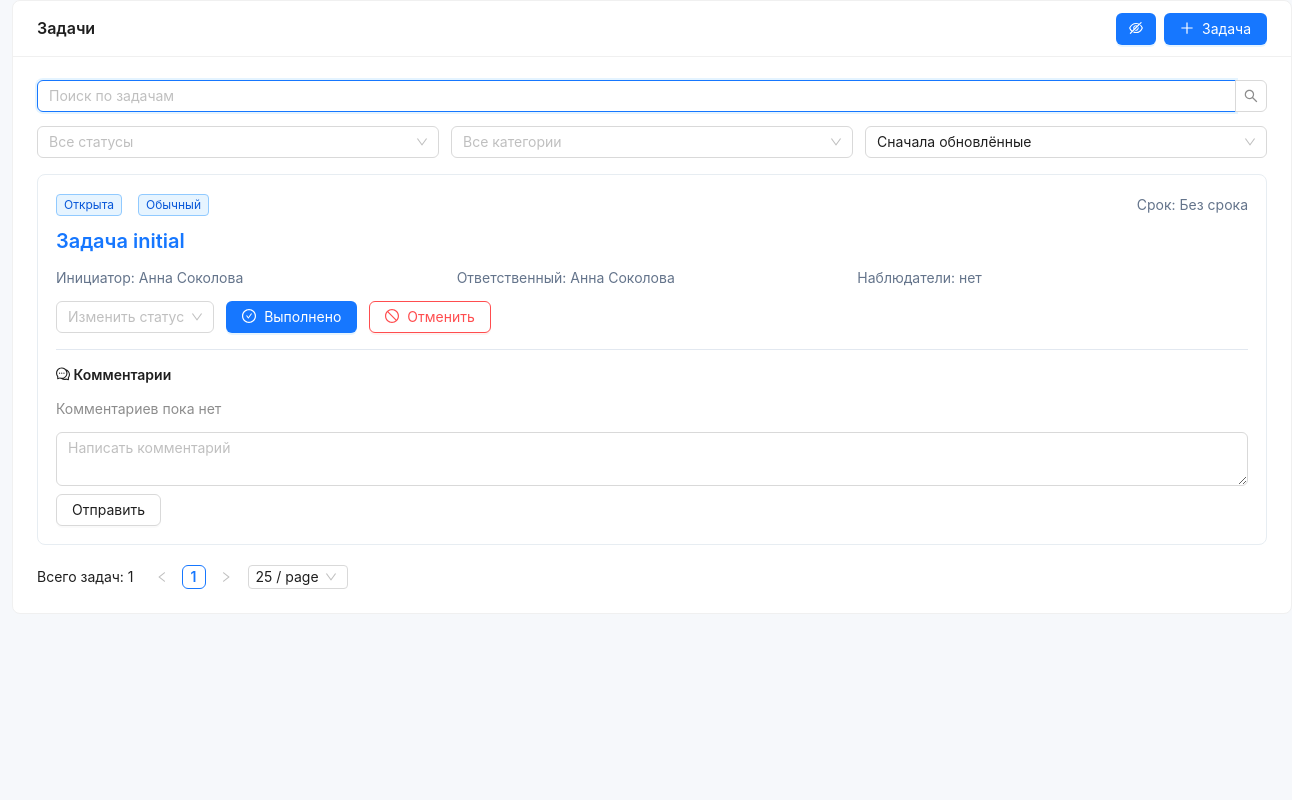
Scenario: project task list requests › keeps search focused during loading and ignores a late response
Check: the link "Задача initial" is shown, box [56,229,185,253]
Type "old" into the search field labelled "Поиск по задачам" at (628, 96), box [49,85,1208,107]
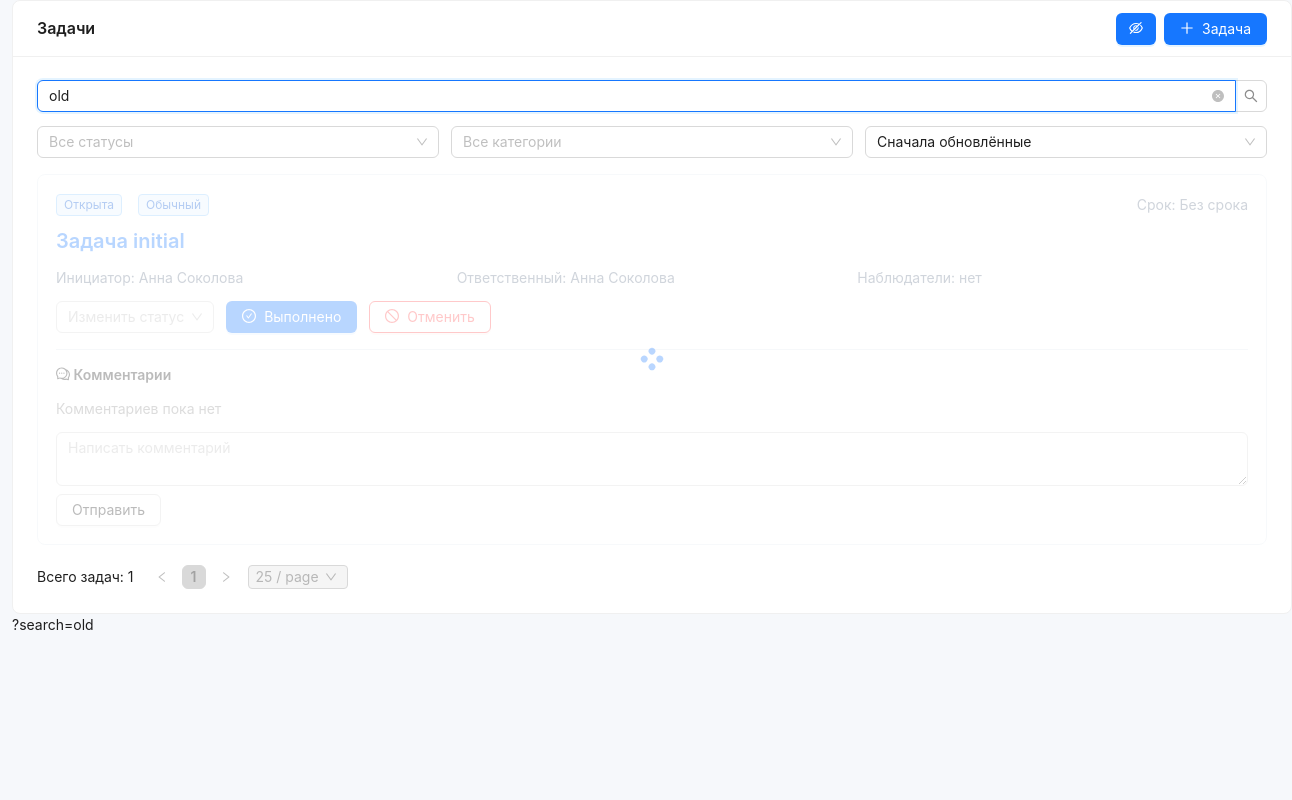
Replace the text in the search field named "Поиск по задачам" with "new" at (628, 96), box [49,85,1208,107]
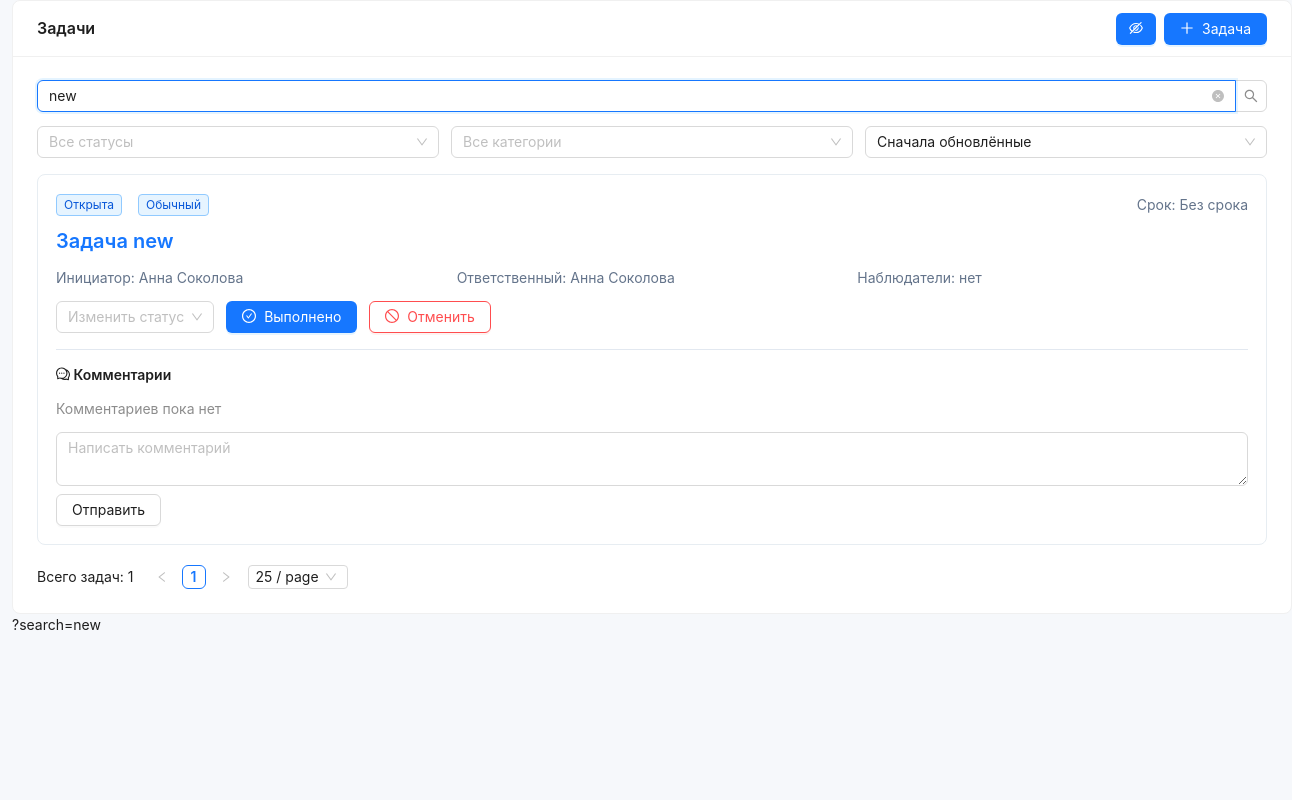
Check: the link "Задача new" is shown, box [56,229,174,253]
